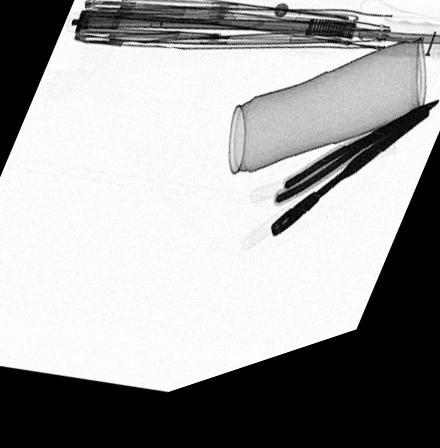Pliers: (265, 134, 428, 256), (272, 125, 438, 220)
